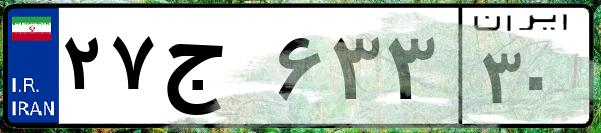0: (525, 38, 570, 115)
2: (57, 26, 110, 100)
3: (385, 28, 445, 110), (330, 28, 385, 110), (475, 38, 525, 113)
6: (270, 28, 330, 110)
7: (110, 28, 158, 98)
ج: (158, 20, 270, 120)
